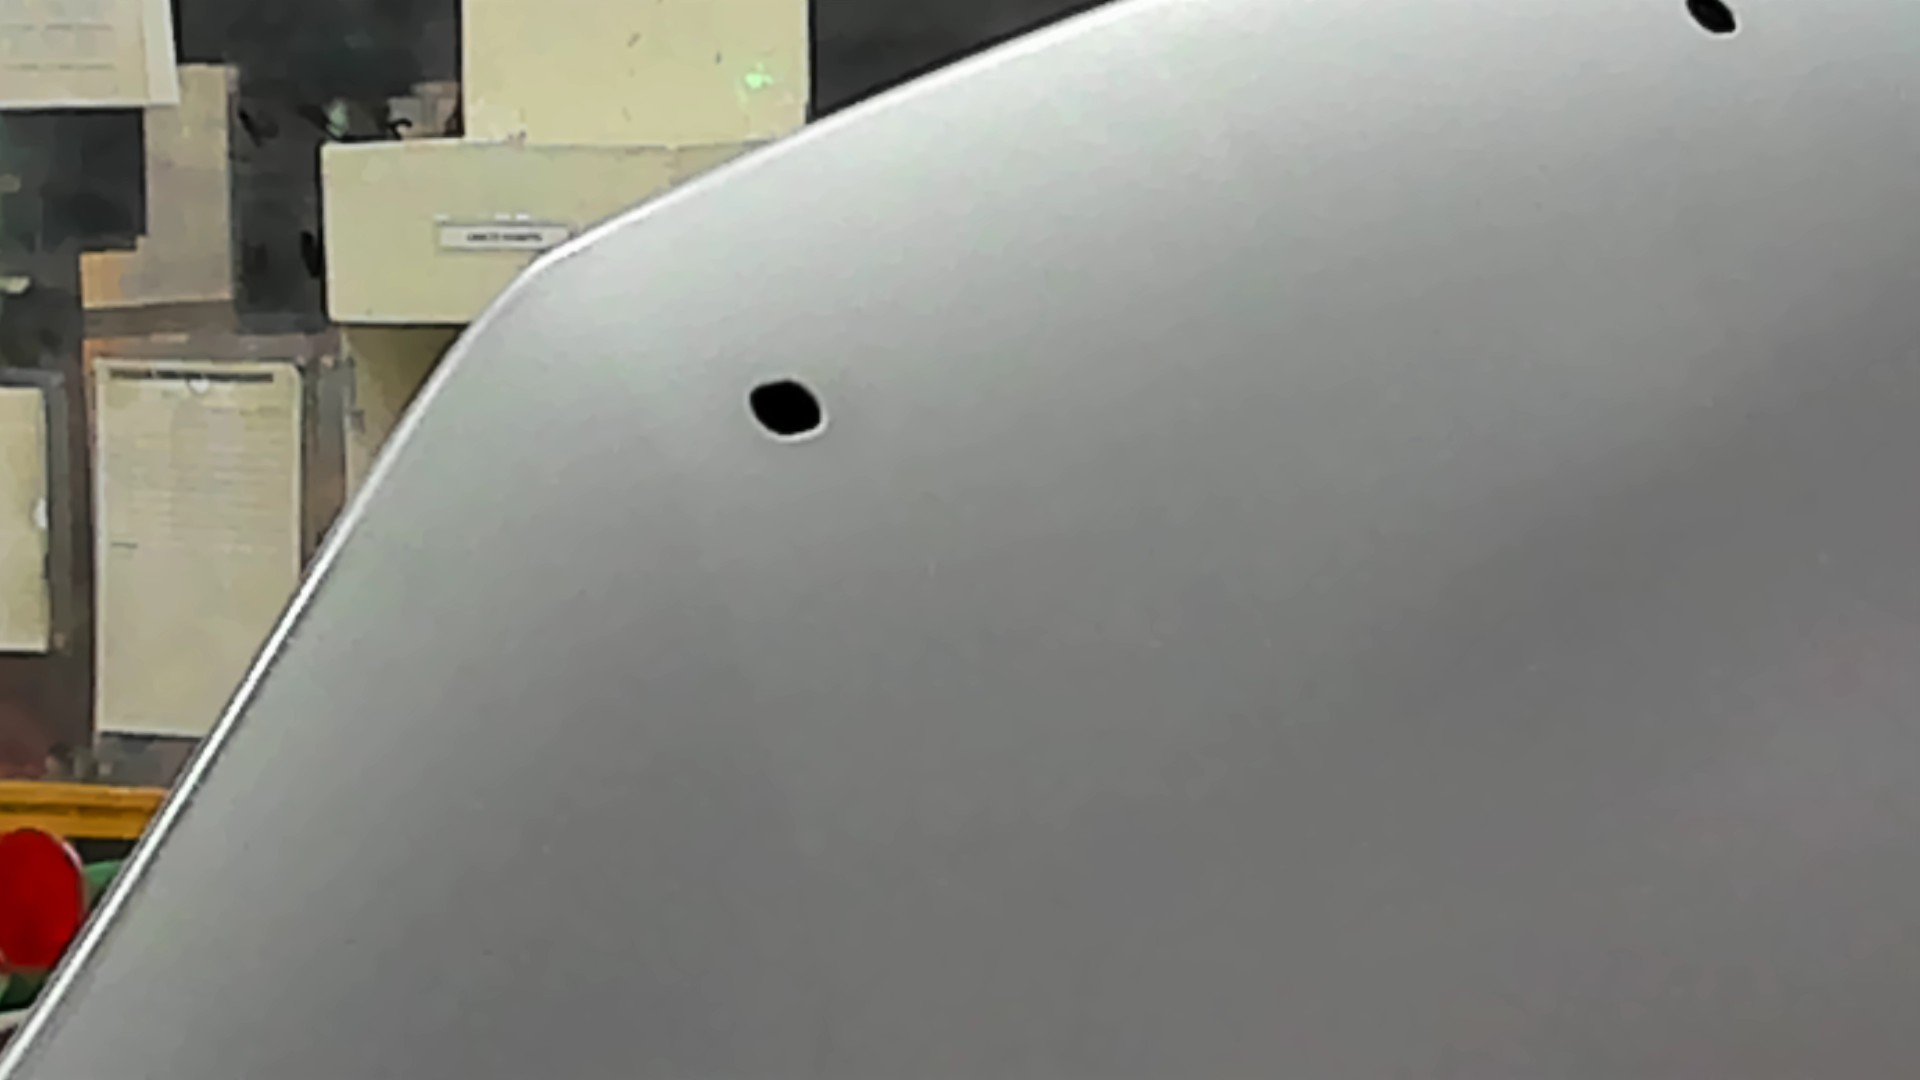chico: (728, 359, 843, 468), (1668, 1, 1756, 41)
